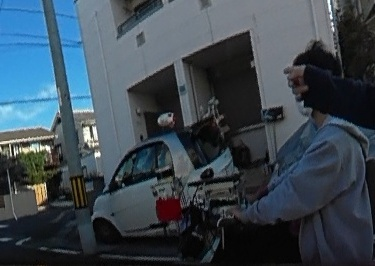person: (255, 49, 369, 266)
